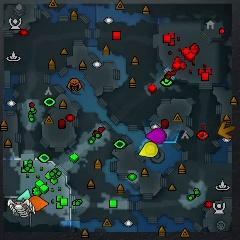p2: (18, 189, 31, 201)
p3: (146, 127, 167, 143)
p4: (139, 141, 159, 157)
p5: (29, 196, 49, 211)
x5: (218, 122, 235, 139)
